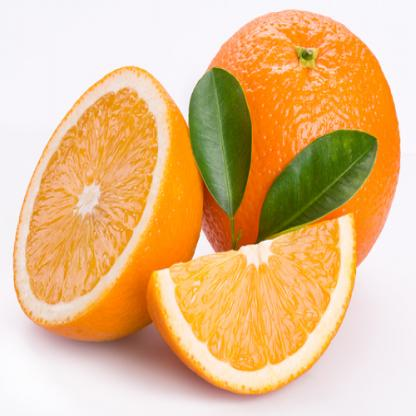orange: (186, 7, 405, 306)
